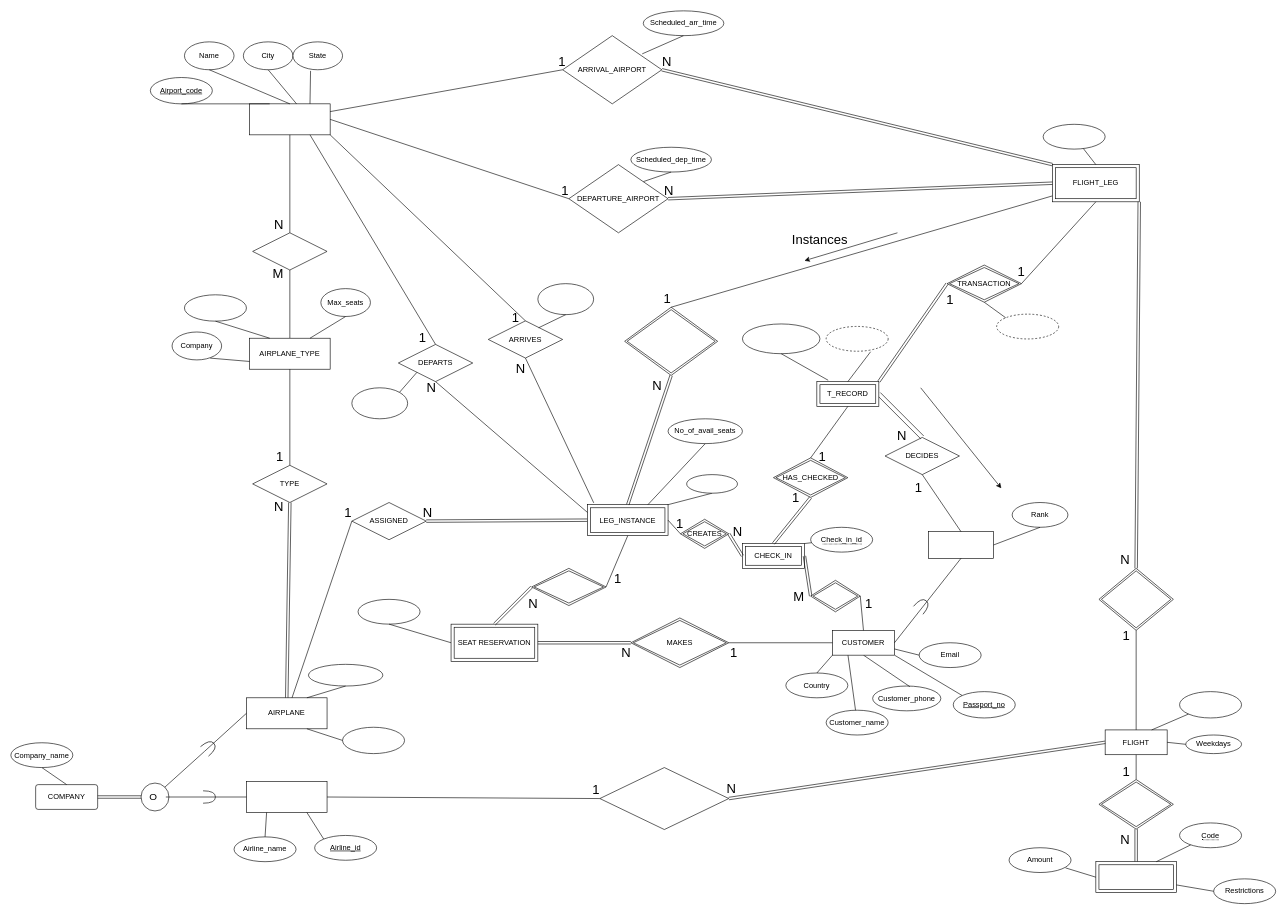
This 1287x915 diagram has some shape labels left out. The centre of each missing label's shape, as x and y in pixels:
AIRLINE: the point at 286,797
Airplane_id: the point at 373,740
AIRPORT: the point at 289,119
ARRANGES: the point at 664,798
Arrival_time: the point at 565,299
CAN_LAND: the point at 289,251
Date: the point at 711,483
Departure_time: the point at 379,403
DOES: the point at 835,596
FARE: the point at 1135,877
FARES: the point at 1135,804
FF_CUSTOMER: the point at 961,544
Flight_time: the point at 1027,326
HAS: the point at 568,587
INSTANCE_OF: the point at 671,341
Leg_no: the point at 1074,136
LEGS: the point at 1135,599
Mileage_information: the point at 781,338
Number: the point at 1210,704
Seat_number: the point at 388,611
Total_mil_point: the point at 857,338
Total_no_of_seats: the point at 345,675
Type_name: the point at 215,307
